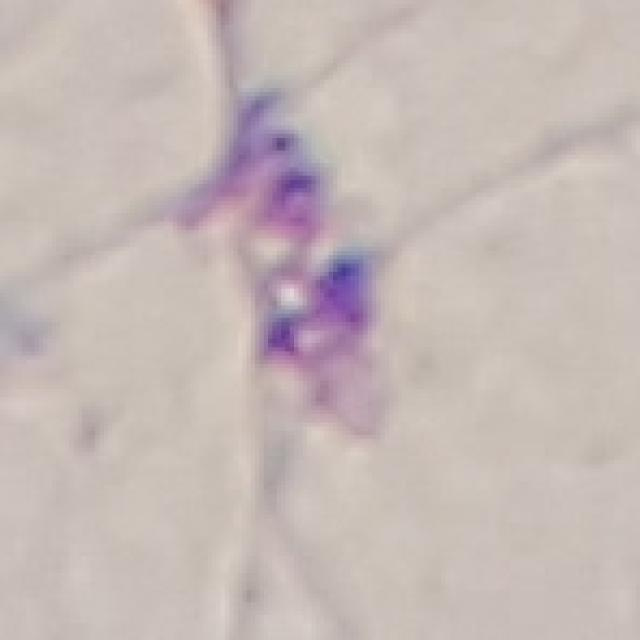non-sperm: (189, 87, 382, 389)
